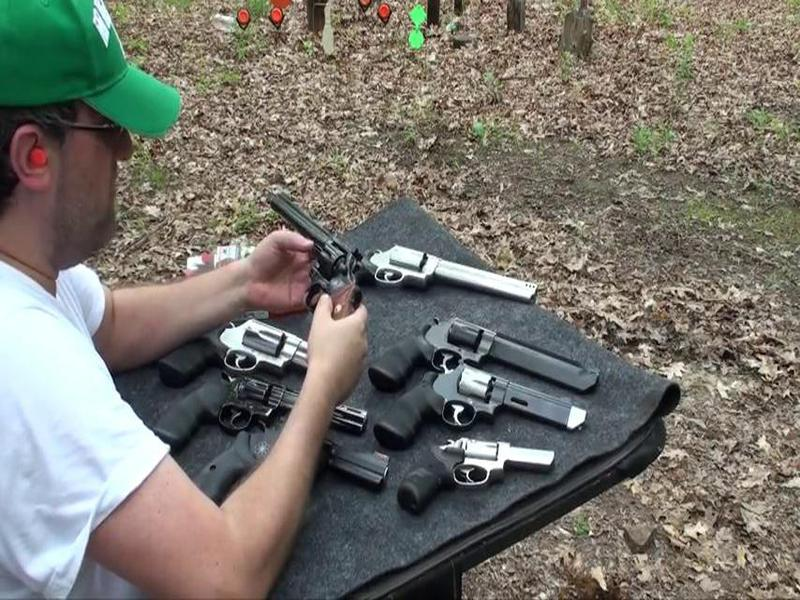Revolver: (258, 180, 358, 356)
